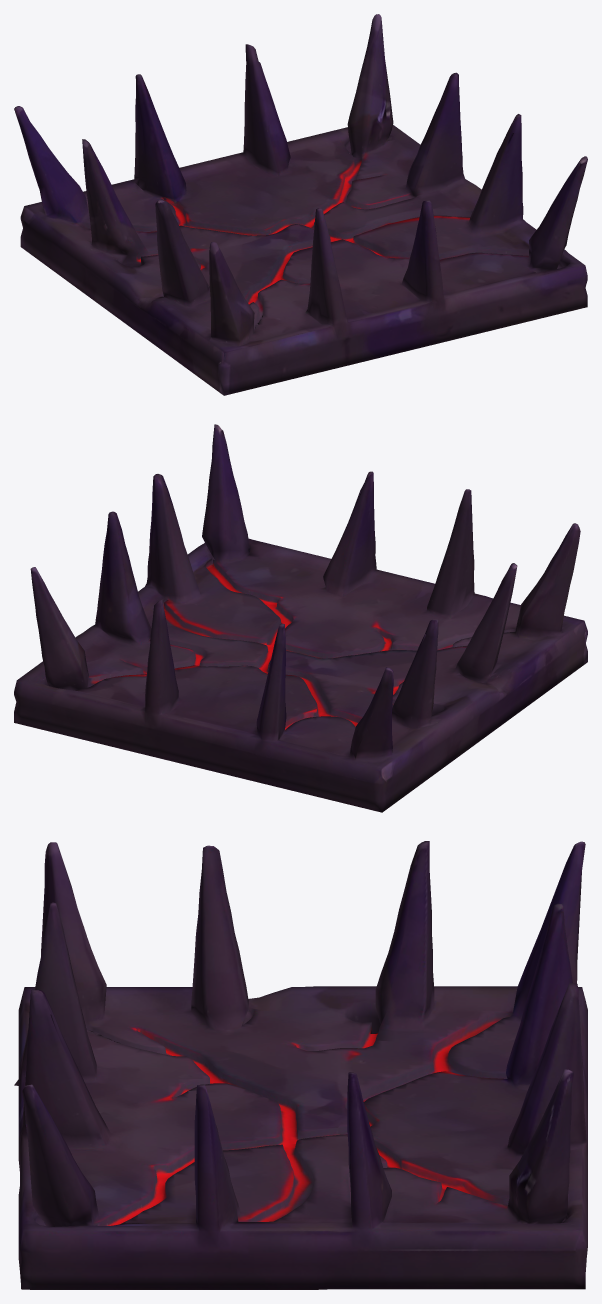
The model's file is SpikeTrap.fbx.
3 views of the same model, one above another, from view 1: azimuth 30°, elevation 25°; view 2: azimuth 150°, elevation 25°; view 3: azimuth 270°, elevation 25° (orthographic). The views are drawn at different scales.
Visible parts, largest first — view 1: tripo_node_f62ba43d; view 2: tripo_node_f62ba43d; view 3: tripo_node_f62ba43d.
Part boxes in pixels (x1=…): tripo_node_f62ba43d: x1=14, y1=14, x2=587, y2=395; tripo_node_f62ba43d: x1=14, y1=424, x2=587, y2=812; tripo_node_f62ba43d: x1=14, y1=841, x2=587, y2=1289.
Bounding box in the file's own units: 0.9772 × 0.3805 × 0.9351.
